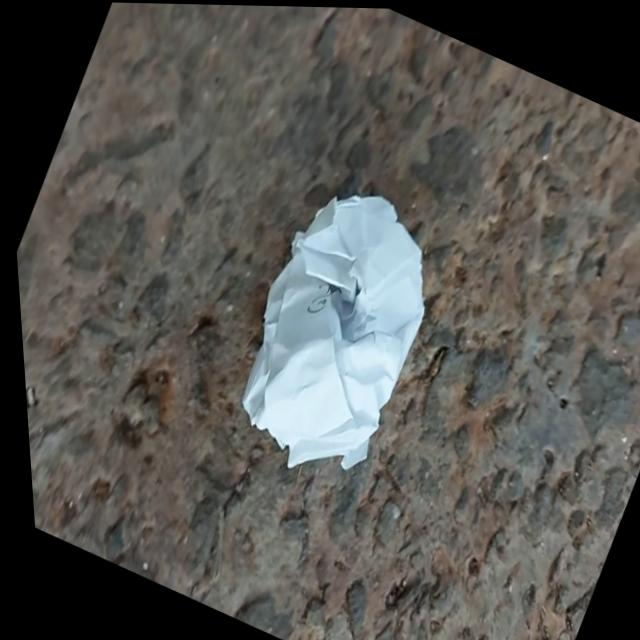paper: (243, 196, 422, 468)
